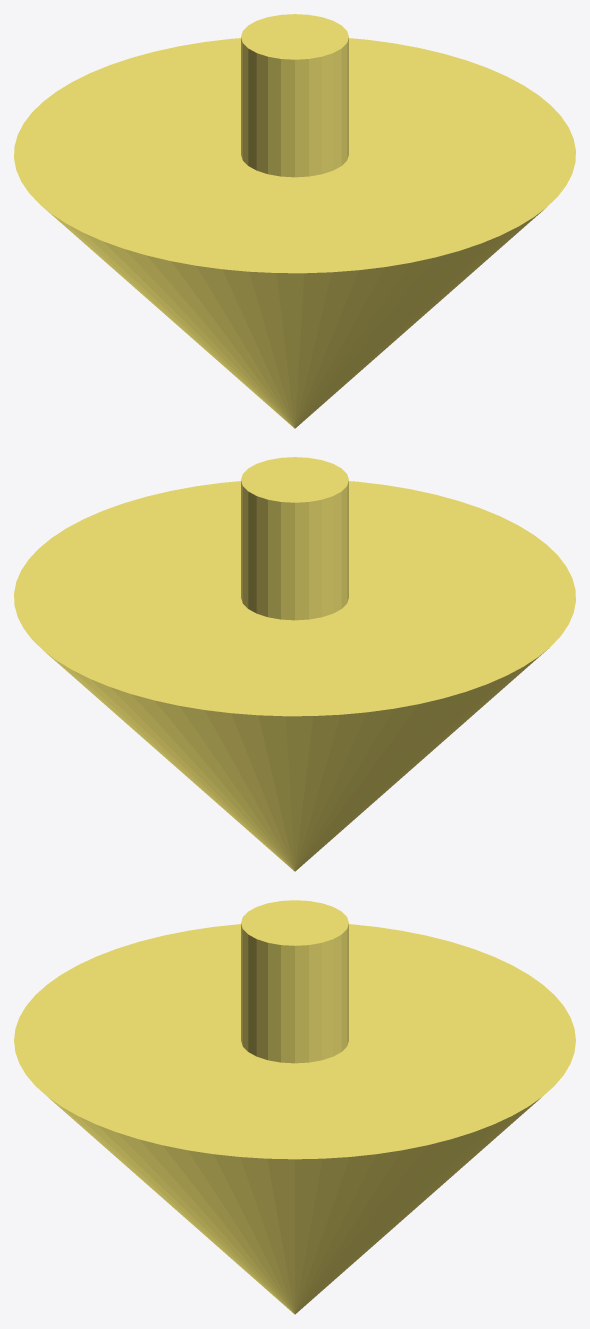
File: top.glb
3 renders of one model, top to bottom at view 1: azimuth 30°, elevation 25°; view 2: azimuth 150°, elevation 25°; view 3: azimuth 270°, elevation 25°, orthographic.
Bounding box in the file's own units: 26 × 20 × 26.
